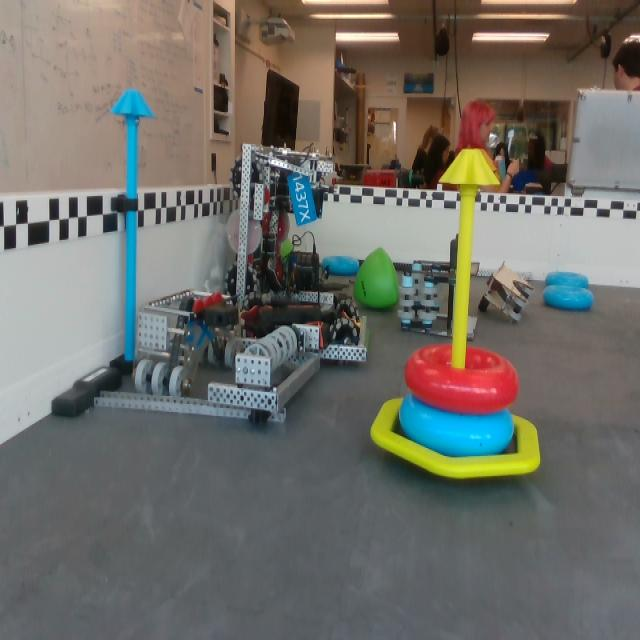Blue-Ring: (400, 399, 516, 456), (542, 283, 596, 316), (323, 252, 361, 276), (545, 271, 589, 287)
Mobile-Goal: (375, 146, 546, 486)
Red-Ring: (404, 345, 518, 413)
Yellow-Stake-Head: (440, 148, 501, 186)
zblue-Stake-Head: (110, 88, 155, 120)
